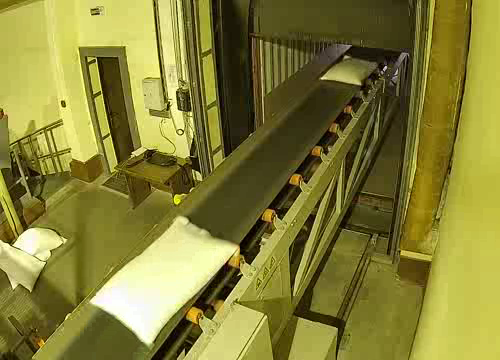bag: (88, 211, 246, 342), (318, 52, 380, 96)
